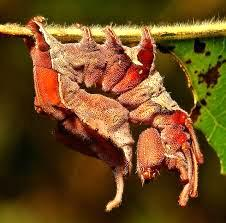Lobster Moth: (29, 23, 211, 200)
